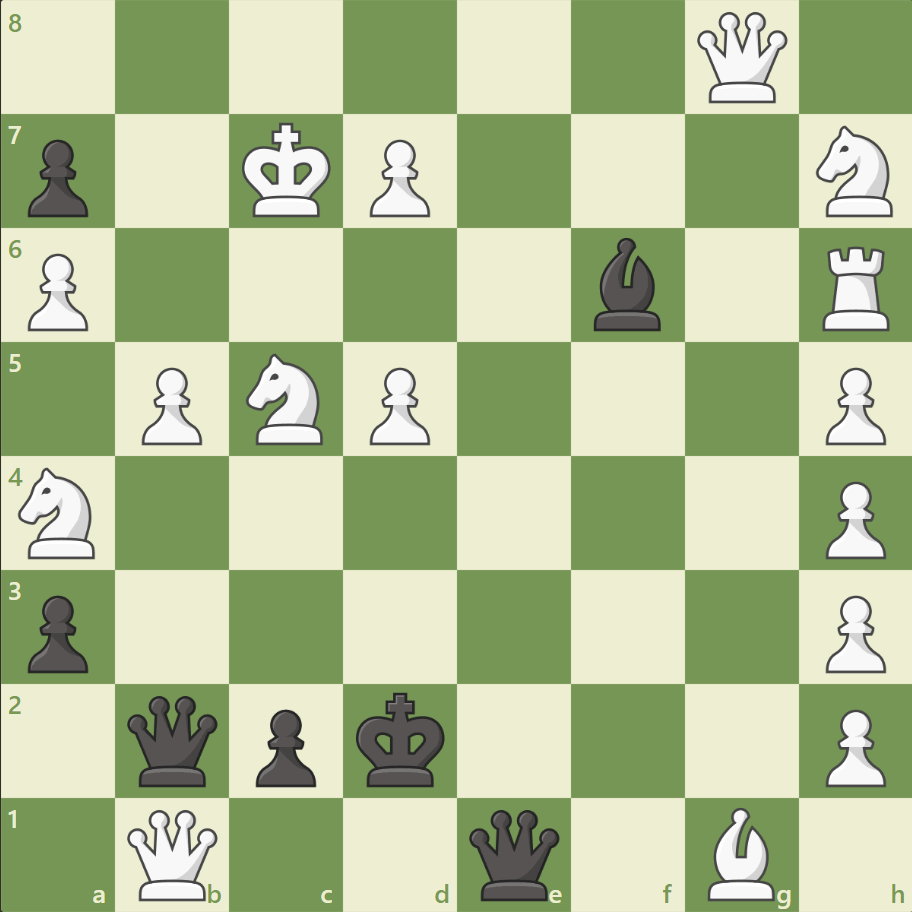B: (698, 801, 782, 904)
K: (238, 117, 338, 225)
N: (11, 461, 108, 564), (806, 121, 903, 223), (238, 348, 335, 450)
P: (20, 246, 95, 337), (133, 359, 208, 450), (361, 132, 435, 223), (361, 359, 435, 450), (815, 359, 889, 450), (815, 473, 889, 564), (815, 586, 889, 677), (815, 700, 889, 791)
Q: (691, 9, 790, 108), (124, 804, 223, 903)
R: (814, 239, 897, 336)
b: (585, 233, 669, 336)
k: (351, 685, 451, 793)
p: (20, 132, 95, 223), (20, 586, 95, 677), (247, 700, 322, 791)
q: (124, 690, 223, 789), (464, 804, 563, 903)
